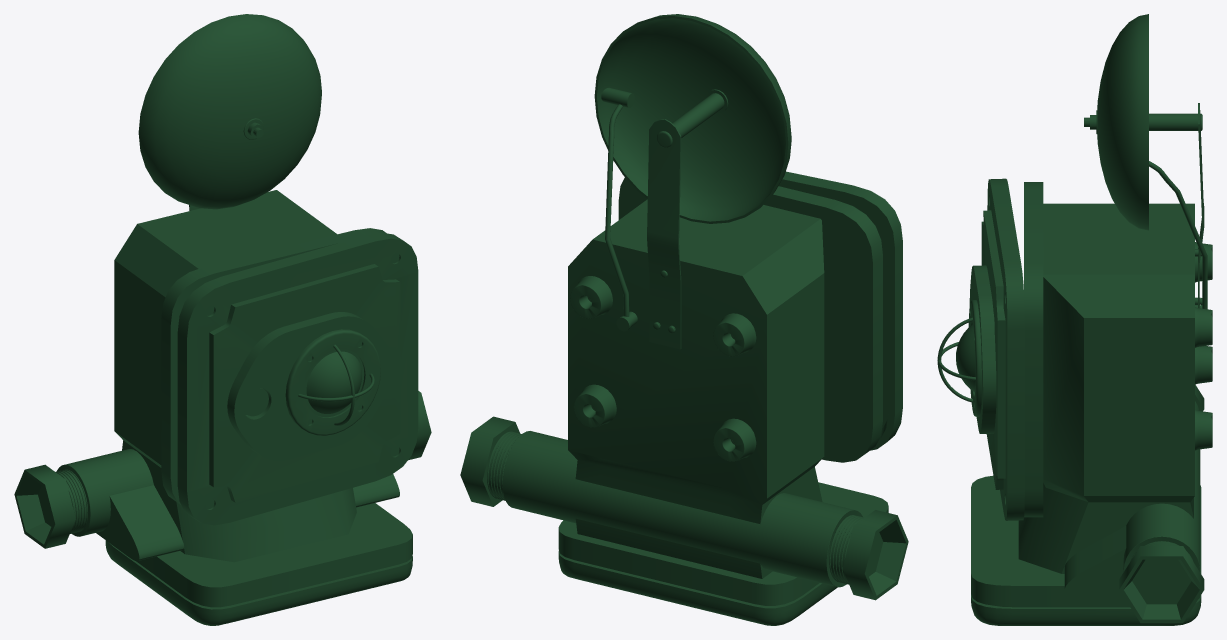
The picture shows the model from 3 angles, left to right: view 1: azimuth 30°, elevation 25°; view 2: azimuth 150°, elevation 25°; view 3: azimuth 270°, elevation 25°; orthographic projection. The views are drawn at different scales.
Visible parts, largest first — view 1: Box005, Box003, Sphere002, Box001, Box006, Box004, Cylinder003, Cylinder006, Line001, Cylinder002, Sphere001, Line002 (+1 smaller); view 2: Box003, Sphere002, Cylinder003, Box004, Box001, Plane001, Box005, Cylinder002, Cylinder004, Cylinder007, Cylinder008, Cylinder010 (+3 smaller); view 3: Box003, Box001, Box005, Sphere002, Box004, Cylinder004, Cylinder003, Line002, Box006, Cylinder014, Cylinder006, Sphere001 (+7 smaller).
Boxes of the visible parts, <box> form: Box005: <box>177,232,418,525</box>; Box003: <box>114,190,356,562</box>; Sphere002: <box>138,14,321,209</box>; Box001: <box>105,503,412,625</box>; Box006: <box>227,312,393,460</box>; Box004: <box>161,228,386,505</box>; Cylinder003: <box>56,449,153,536</box>; Cylinder006: <box>285,329,380,435</box>; Line001: <box>96,485,183,561</box>; Cylinder002: <box>14,464,75,548</box>; Sphere001: <box>306,351,361,413</box>; Line002: <box>353,474,399,507</box>; Box003: <box>568,199,824,578</box>; Sphere002: <box>594,14,791,223</box>; Cylinder003: <box>487,431,863,587</box>; Box004: <box>618,177,882,462</box>; Box001: <box>558,482,888,625</box>; Plane001: <box>647,119,681,349</box>; Box005: <box>778,171,902,450</box>; Cylinder002: <box>842,510,908,600</box>; Cylinder004: <box>460,416,520,506</box>; Cylinder007: <box>713,313,756,356</box>; Cylinder008: <box>713,418,756,461</box>; Cylinder010: <box>573,384,616,427</box>; Box003: <box>1018,203,1194,573</box>; Box001: <box>971,476,1201,625</box>; Box005: <box>981,178,1024,520</box>; Sphere002: <box>1097,14,1148,230</box>; Box004: <box>1024,182,1043,517</box>; Cylinder004: <box>1119,546,1204,623</box>; Cylinder003: <box>1123,401,1200,572</box>; Line002: <box>1064,526,1126,597</box>; Box006: <box>969,265,996,433</box>; Cylinder014: <box>1084,110,1202,133</box>; Cylinder006: <box>968,300,981,416</box>; Sphere001: <box>956,324,975,392</box>.
Bounding box in the file's own units: 129 × 173 × 78.3.
